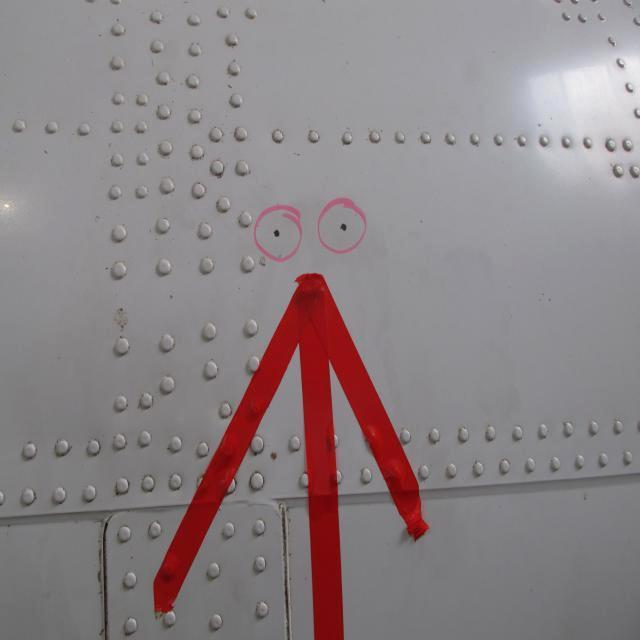Missing Fastener: (266, 225, 286, 243), (336, 217, 352, 235)
